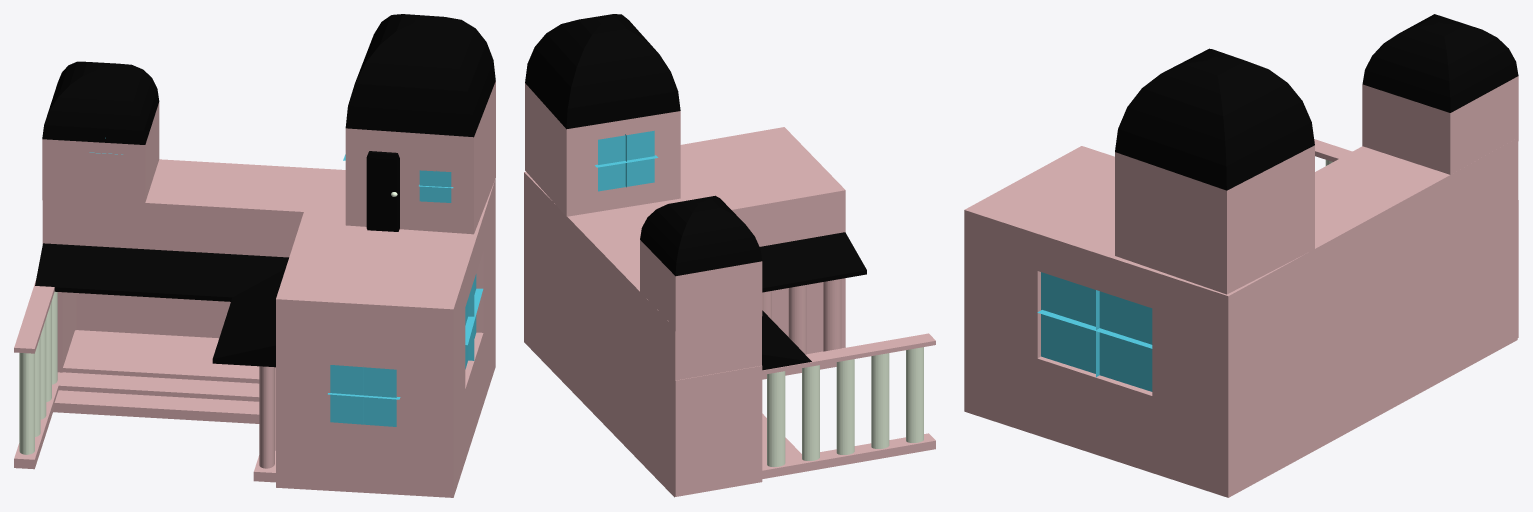
File: Extracteur obsidienne.fbx
The picture shows the model from 3 angles, left to right: view 1: azimuth 30°, elevation 25°; view 2: azimuth 150°, elevation 25°; view 3: azimuth 270°, elevation 25°; orthographic projection. The views are drawn at different scales.
Parts seen in each view (by area): view 1: Coupole; view 2: Coupole; view 3: Coupole.
Part boxes in pixels (x1,y1,x2,y2): Coupole: (14,14,495,497); Coupole: (524,14,935,497); Coupole: (964,14,1518,497).
Bounding box in the file's own units: 521 × 393 × 498.
